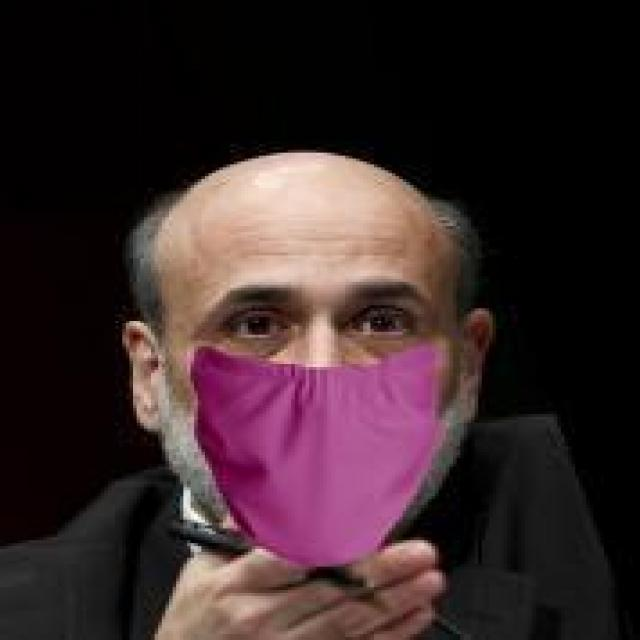mask: (108, 121, 554, 578)
